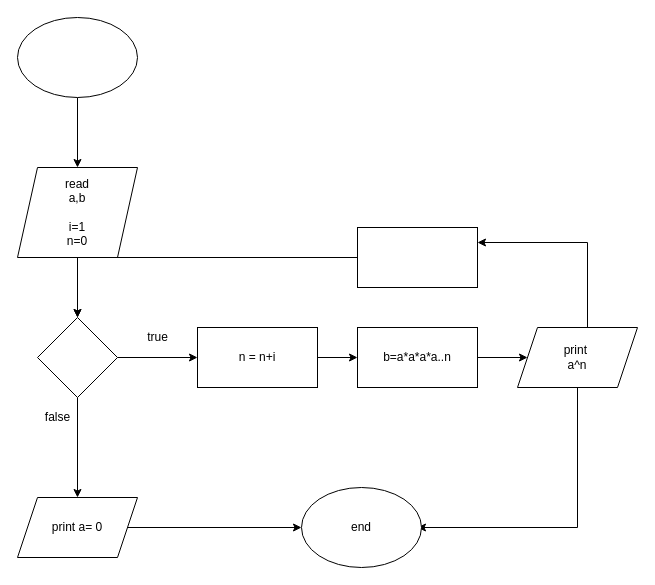
The diagram is 655 pixels wide and 585 high, and some of its shapes have lost their labels. Here are the shapes that lost their labels. From the top down, the centre of each, then its label:
At (77,57): "start".
At (417,257): "i++".
At (77,357): "a!=0".
